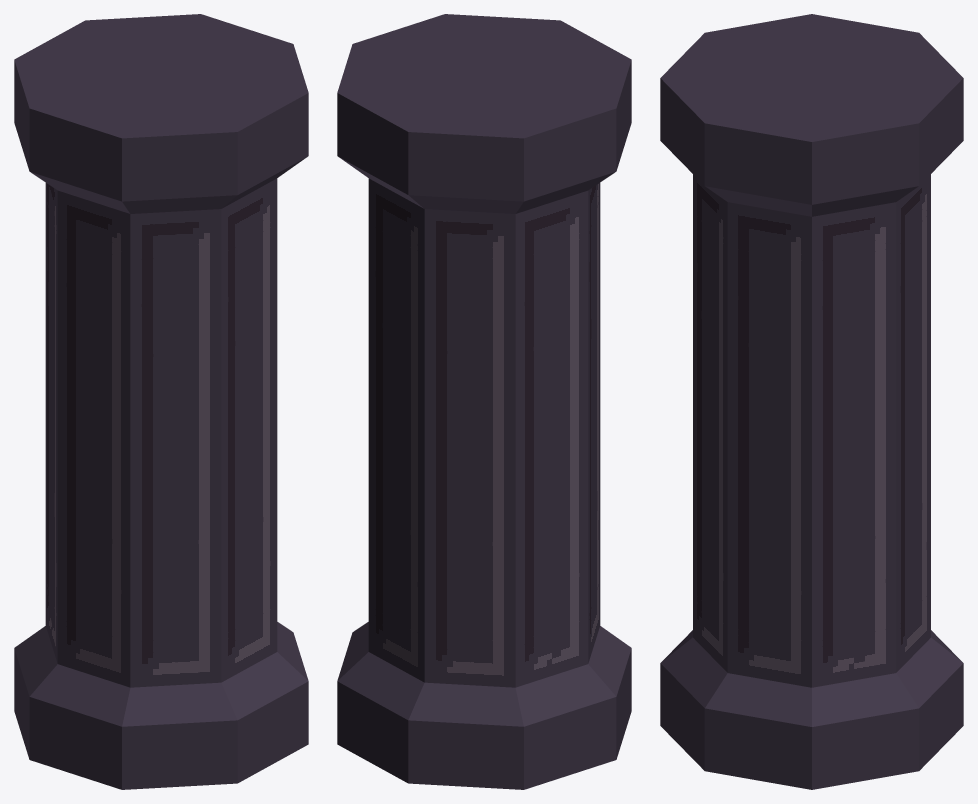
The model's file is pillar3.fbx.
3 views of the same model, side by side, from view 1: azimuth 30°, elevation 25°; view 2: azimuth 150°, elevation 25°; view 3: azimuth 270°, elevation 25° (orthographic).
Visible parts, largest first — view 1: Pillar 3; view 2: Pillar 3; view 3: Pillar 3.
Part boxes in pixels (left/top/right/bottom): Pillar 3: left=14, top=14, right=308, bottom=789; Pillar 3: left=337, top=14, right=631, bottom=789; Pillar 3: left=660, top=14, right=963, bottom=789.
Bounding box in the file's own units: 127 × 300 × 127.
